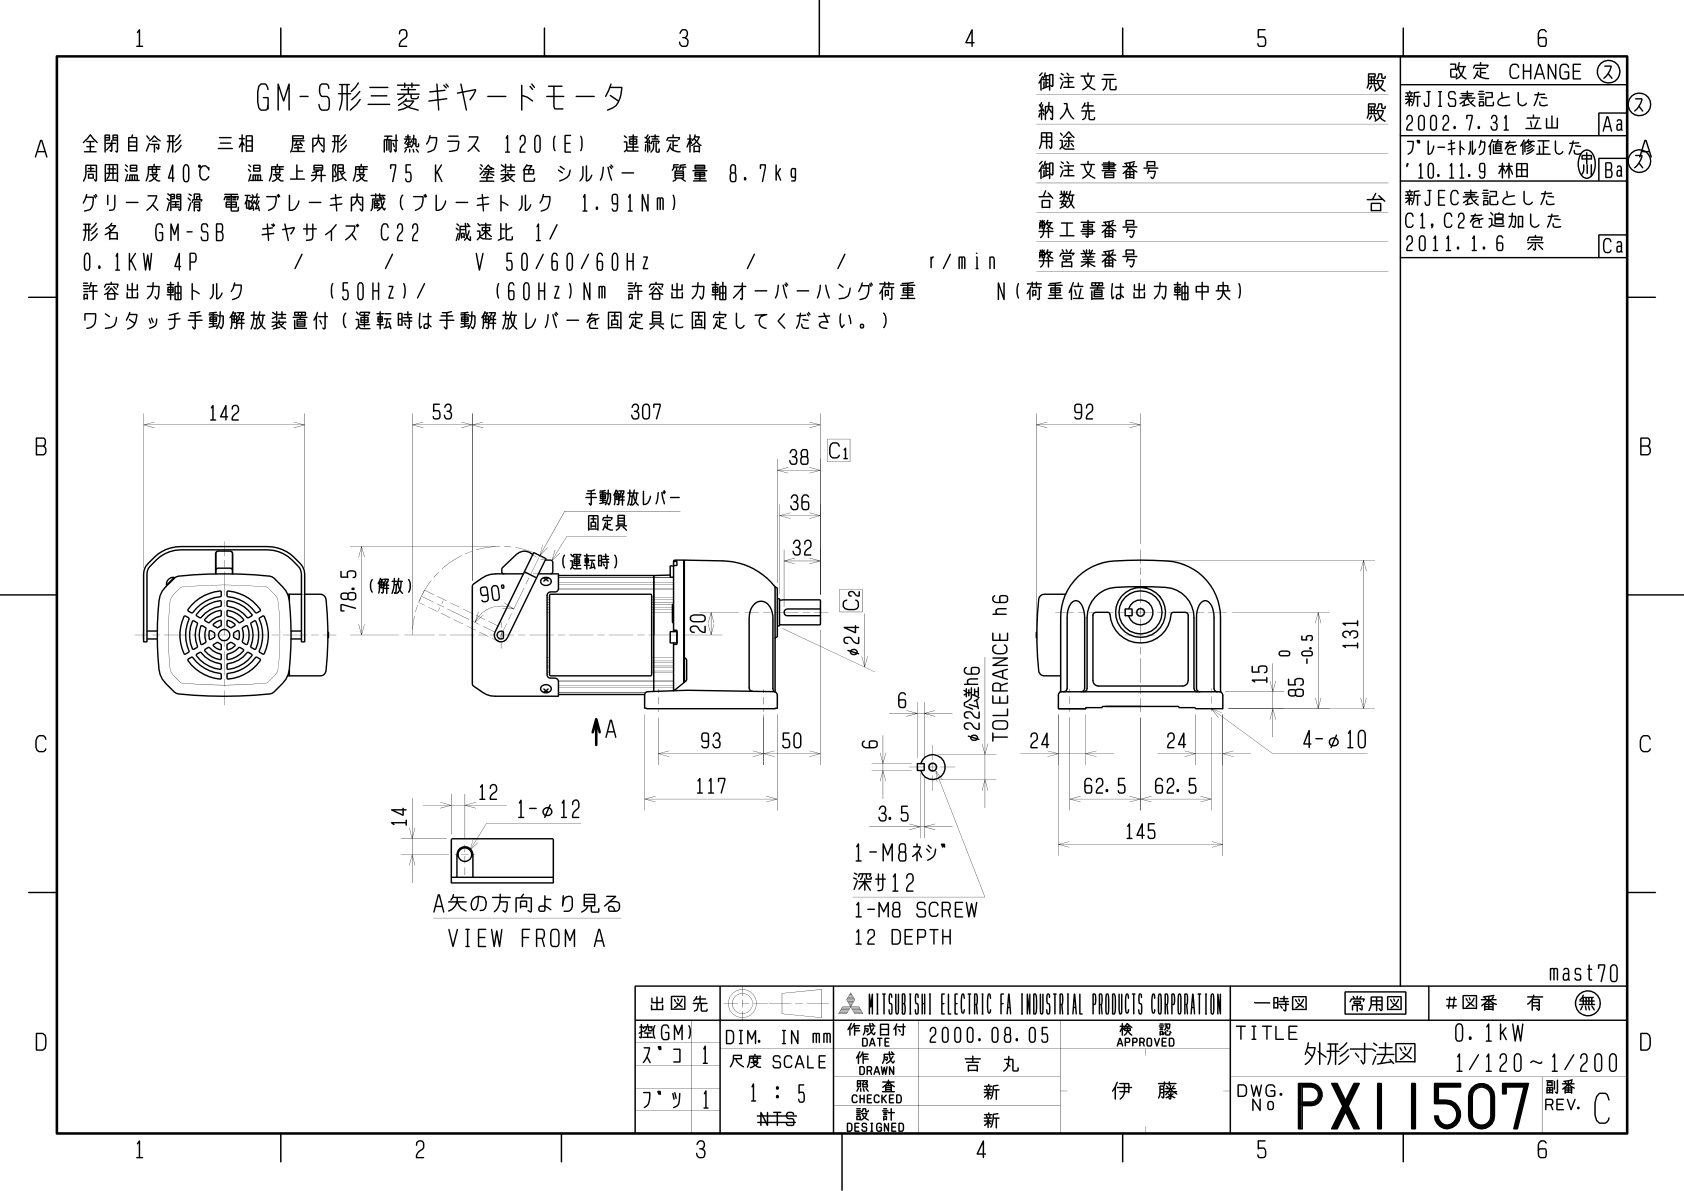GM_S_手動ブレーキ＿三相_脚: (95, 354, 1393, 967)
